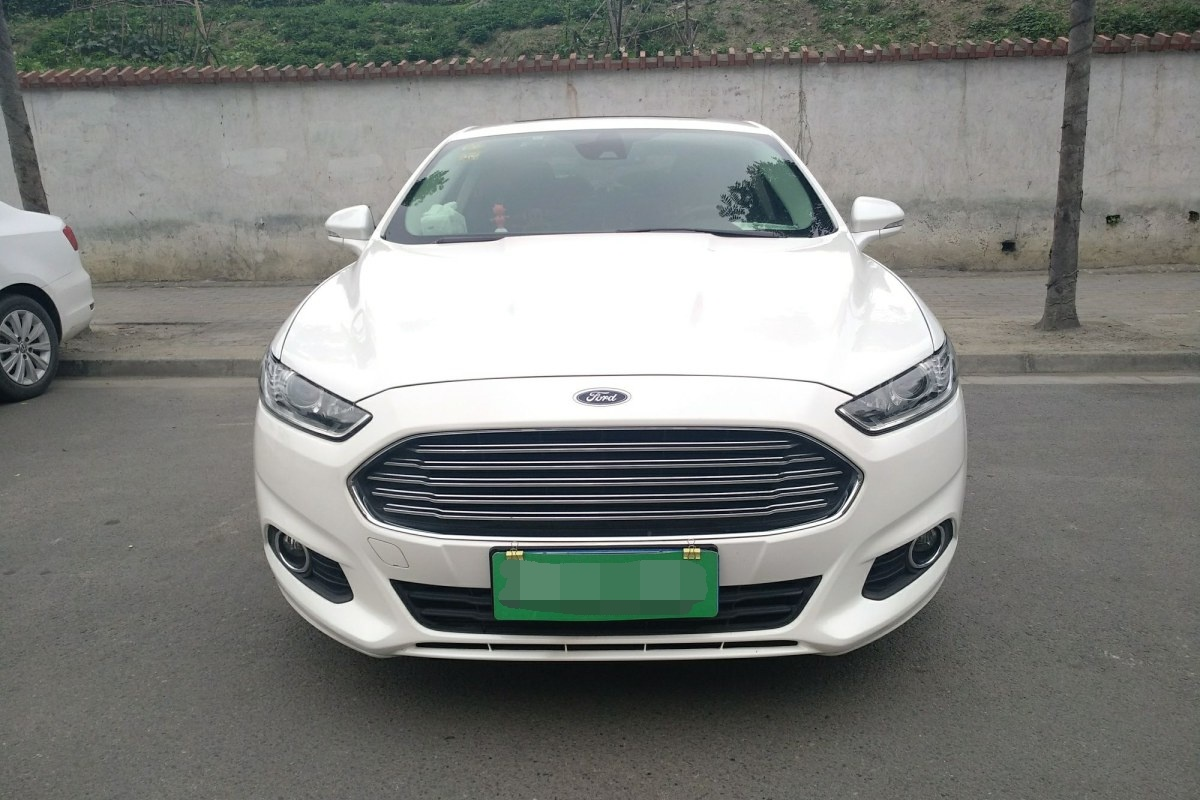family sedan: (238, 80, 1015, 685)
